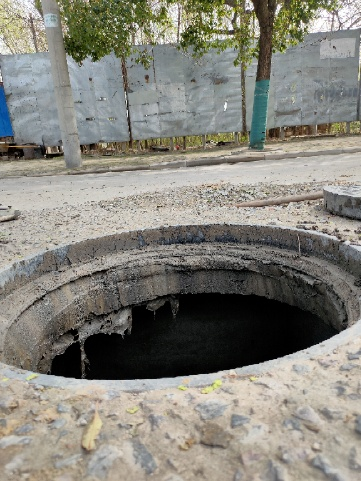lose: (1, 224, 361, 389)
